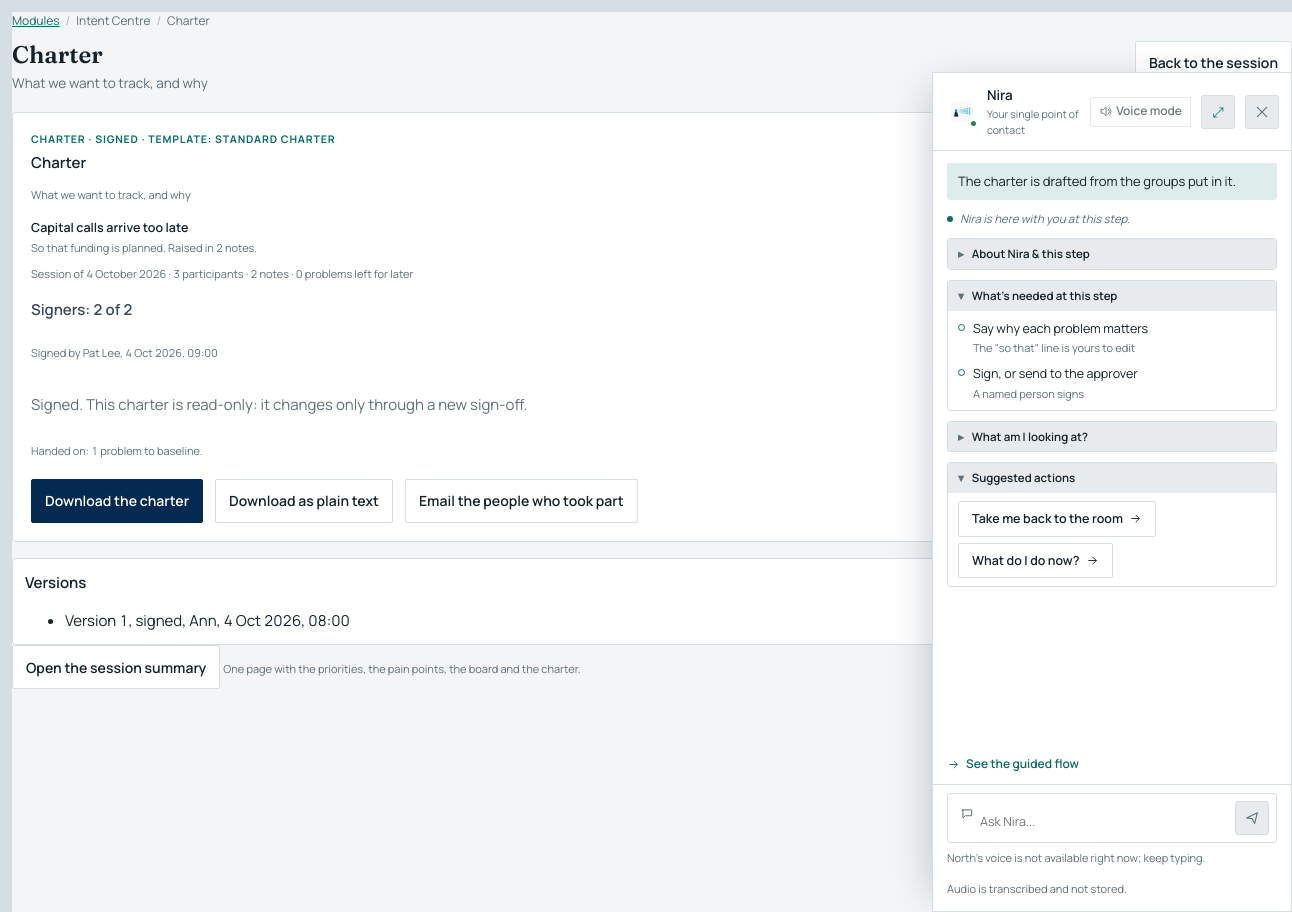
a refused email shows the plain words and no email
What coordinates should you click on to do the following:
click the button "Email the people who took part"
I would click on:
 (521, 501)
Its box is [405,479,638,523].
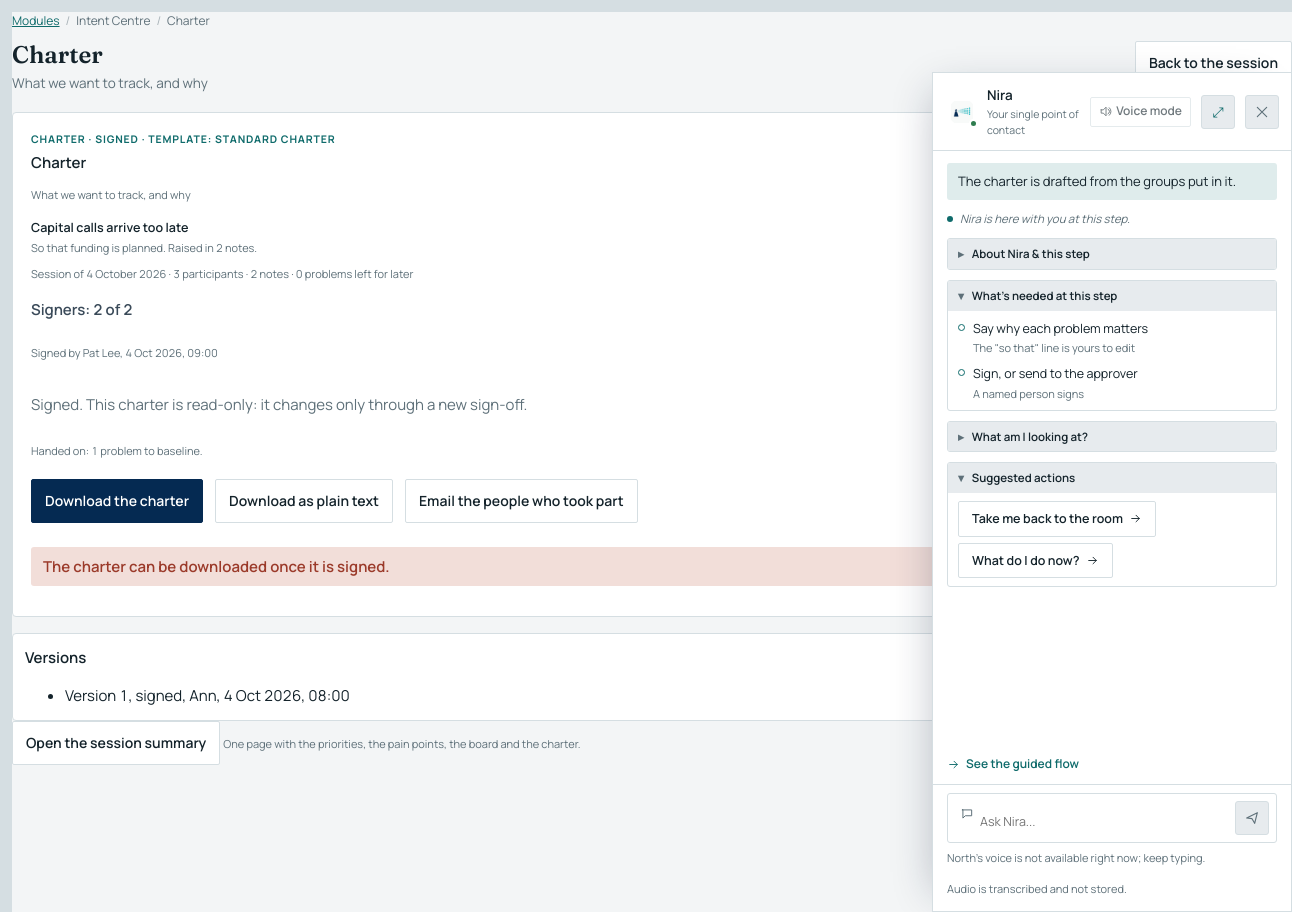
Result: the message "The charter can be downloaded once it is signed." is shown at [31,547,1273,586]
